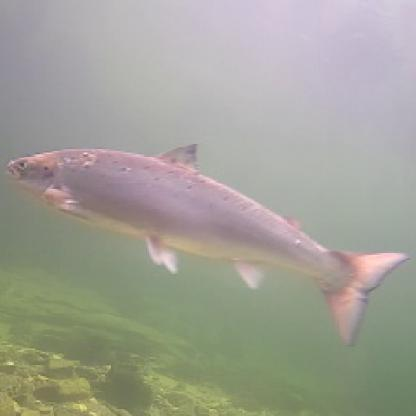salmon: (2, 135, 407, 345)
